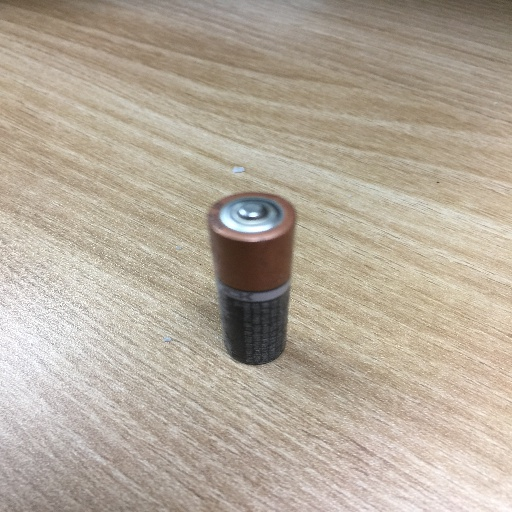Battery_0: (201, 182, 303, 381)
